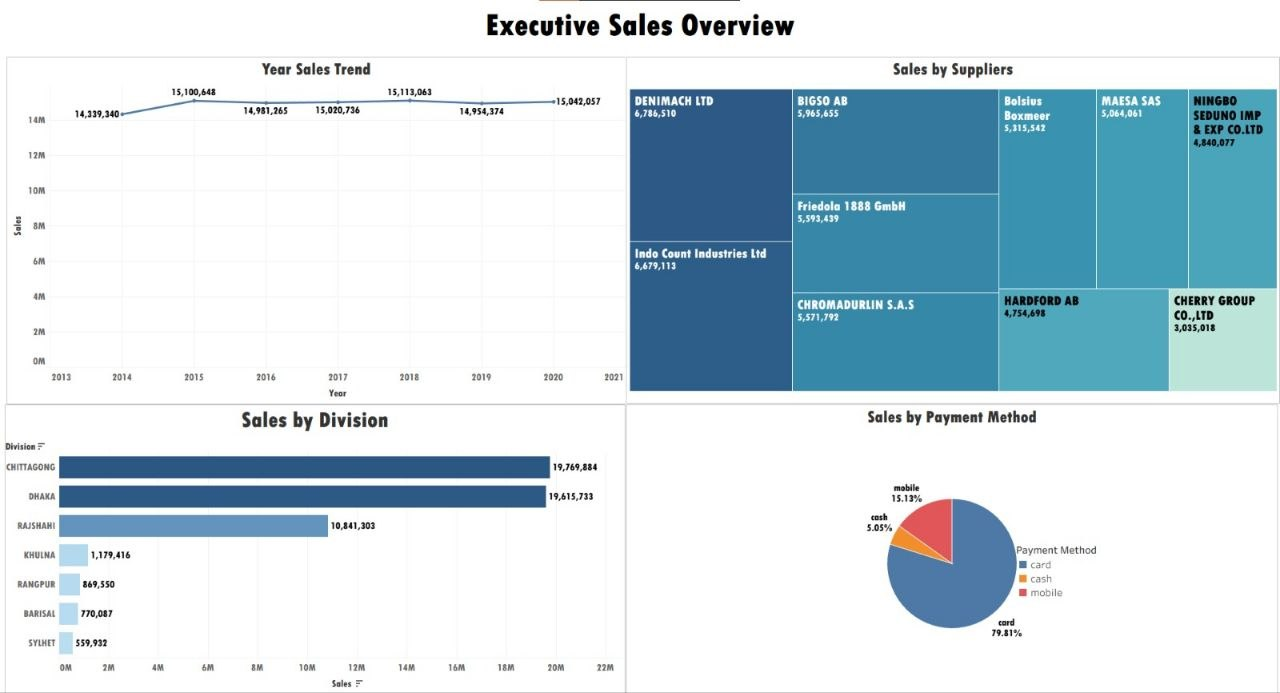

The dashboard page shown, as its layout file describes it:
{"tool":"tableau","page":{"name":"Dashboard 2","canvas":[1000,1000],"units":"permille","ordinal":0},"visuals":[{"type":"text","box":[5,9.2,989.9,67.6]},{"type":"worksheet","title":"Year Sales Trend","mark":"Automatic","rows":["Sales"],"cols":["Year"],"box":[5,81.3,483.7,500.6]},{"type":"worksheet","title":"Sales by Suppliers","mark":"Automatic","box":[489.3,81.3,510.7,499.4]},{"type":"worksheet","title":"Sales by Division","mark":"Automatic","rows":["Division"],"cols":["Sales"],"box":[3.8,581.9,484.9,418.1]},{"type":"worksheet","title":"Sales by Payment Method","mark":"Pie","box":[489.3,581.9,509.4,416.9]},{"type":"legend","title":"Sales by Payment Method","param":"[federated.1jtervx1xl6u3y1g8k9t21gmk92r].[none:Payment Method:nk]","box":[793.7,781.2,83.2,97.4]}]}

Visuals, with their boxes on the dashboard's canvas, which has no fixed pixel size, in thousandths of its width and height (x1, y1, x2, y2). These are canvas units, not pixel positions in the 1280x693 screenshot, which may show the page scaled, cropped or inside an application window:
text: [5,9,995,77]
"Year Sales Trend" worksheet: [5,81,489,582]
"Sales by Suppliers" worksheet: [489,81,1000,581]
"Sales by Division" worksheet: [4,582,489,1000]
"Sales by Payment Method" worksheet (Pie marks): [489,582,999,999]
"Sales by Payment Method" legend: [794,781,877,879]
